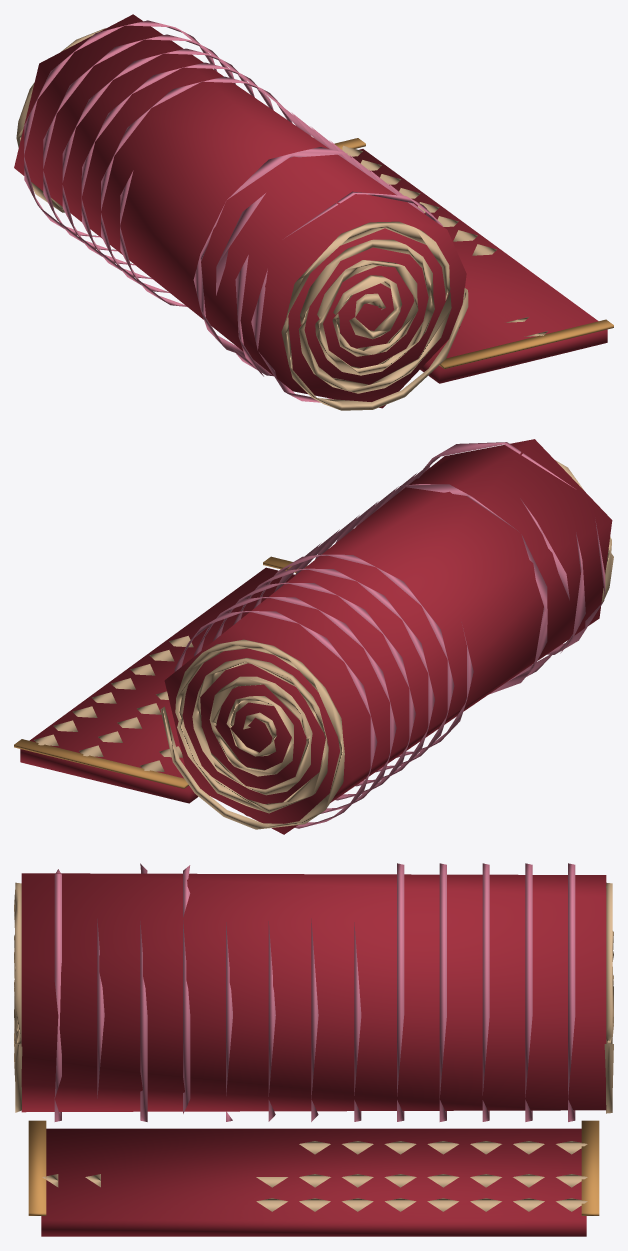
Rendered from prop.carpet.lod1.glb.
3 views of the same model, one above another, from view 1: azimuth 30°, elevation 25°; view 2: azimuth 150°, elevation 25°; view 3: azimuth 270°, elevation 25° (orthographic). The views are drawn at different scales.
Size of the model in its own units: 0.8582 by 0.4982 by 1.15.
